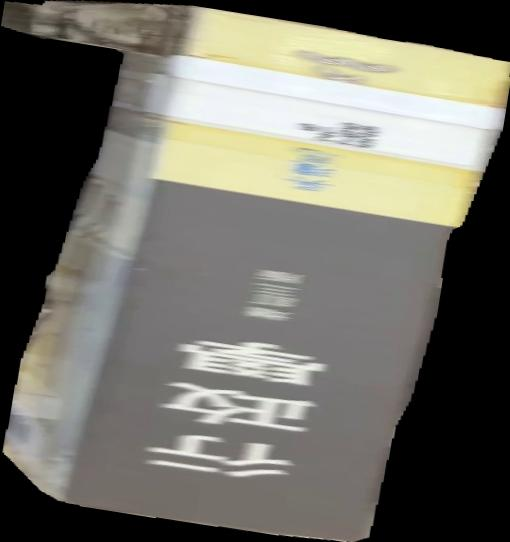reverse: (1, 1, 510, 542)
